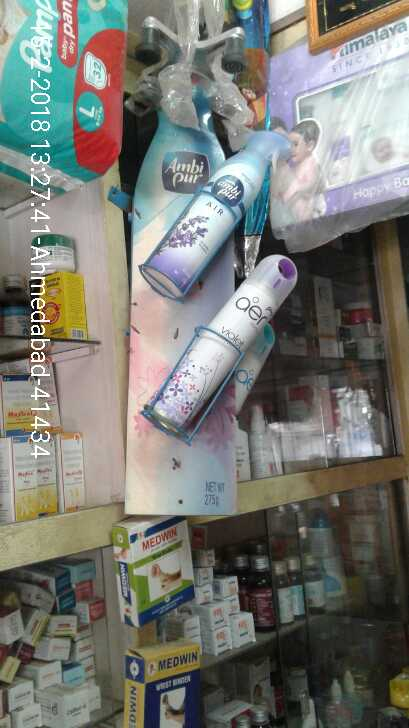home: (138, 123, 299, 302)
pharmacy: (4, 1, 131, 183)
